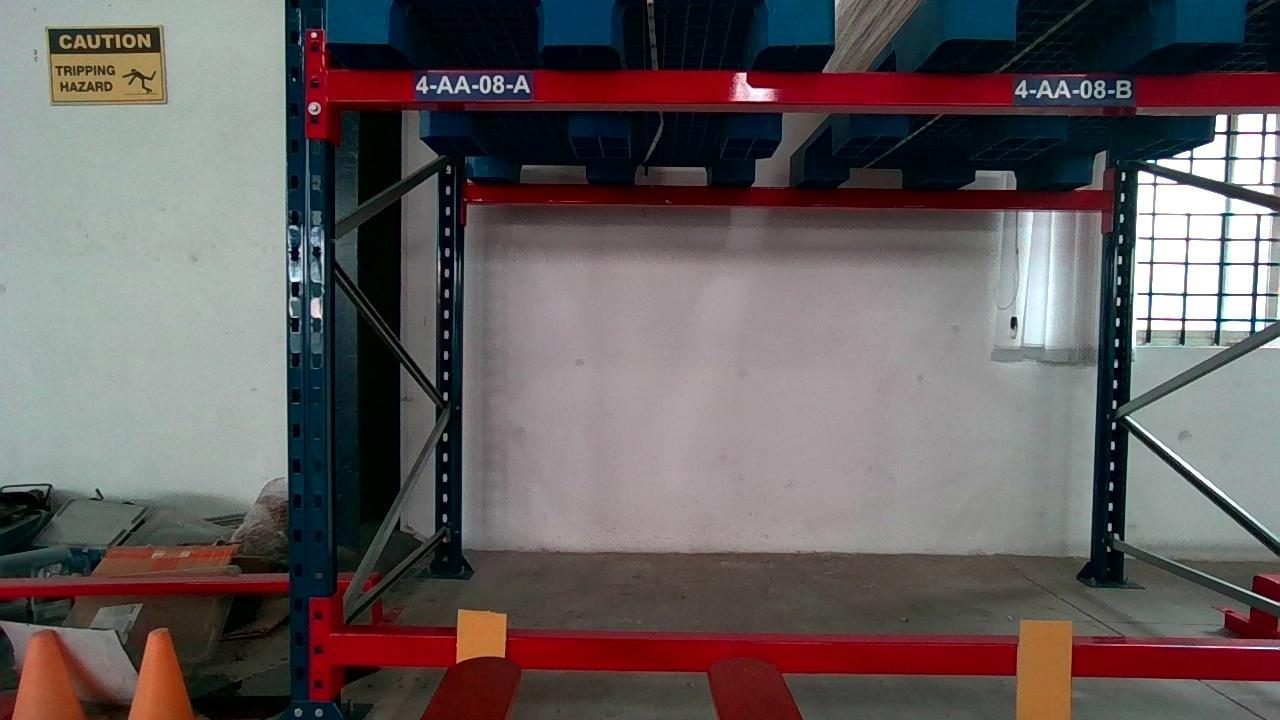h_rack: (328, 633, 1280, 682), (326, 70, 1280, 109)
orange_strip: (1018, 613, 1072, 715), (456, 611, 507, 656)
small_pallet: (319, 0, 839, 43), (940, 0, 1280, 43)
